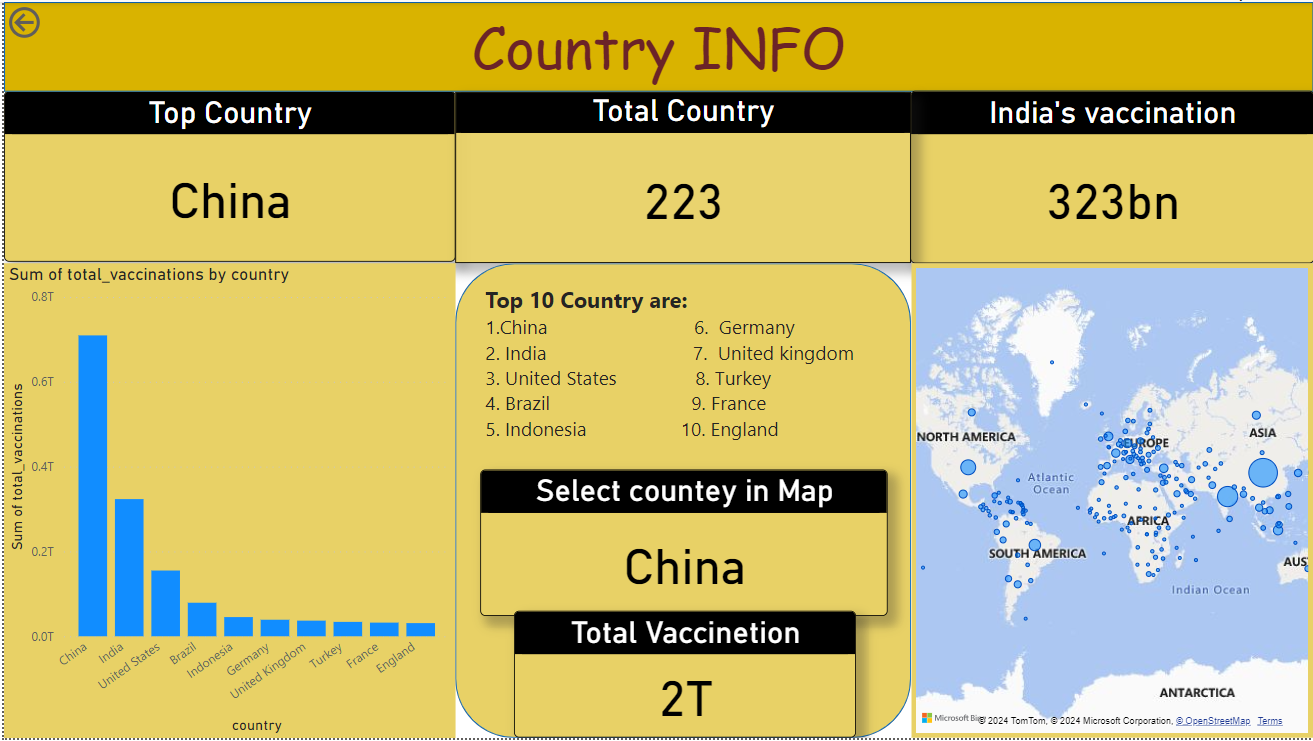

This screenshot's page, from the dashboard's own definition file:
{"tool":"powerbi","page":{"name":"Country INFO","canvas":[1280,720],"ordinal":2},"visuals":[{"type":"card","title":"Top  Country","fields":{"Values":["country_vaccinations.Country with Max Vaccination"]},"box":[0,87.1,441.4,167.1],"z":0},{"type":"shape","box":[0,0,1280.6,87.7],"z":1000},{"type":"card","title":"India''s vaccination","fields":{"Values":["country_vaccinations.india total vaccination"]},"box":[886.2,86.8,394.8,168.7],"z":2000},{"type":"actionButton","box":[0,0,100,40],"z":3000},{"type":"card","title":"Total Country","fields":{"Values":["Count(country_vaccinations.country)"]},"box":[441.5,88.1,445.3,167.3],"z":4000},{"type":"columnChart","fields":{"Category":["country_vaccinations.country"],"Y":["Sum(country_vaccinations.total_vaccinations)"]},"box":[0,255,441.5,464.8],"z":5000},{"type":"shape","box":[441.4,255.7,445.7,464.3],"z":6000},{"type":"map","fields":{"Category":["country_vaccinations.country"],"Size":["Sum(country_vaccinations.total_vaccinations)"]},"box":[887,256,393,464],"z":7000},{"type":"textbox","box":[465.7,271.4,398.6,185.7],"z":8000},{"type":"card","title":"Select countey in Map","fields":{"Values":["country_vaccinations.Country with Max Vaccination"]},"box":[465.7,457.1,398.6,142.9],"z":9000},{"type":"card","title":"Total Vaccinetion","fields":{"Values":["Sum(country_vaccinations.total_vaccinations)"]},"box":[498.6,595.7,334.3,124.3],"z":10000}]}

Visuals, with their boxes in screenshot pixels (x1, y1, x2, y2), scaled from the page's 1280x720 canvas onto the 1313x741 screenshot:
"Top  Country" card: {"x1": 0, "y1": 90, "x2": 453, "y2": 262}
shape: {"x1": 0, "y1": 0, "x2": 1312, "y2": 90}
"India''s vaccination" card: {"x1": 909, "y1": 89, "x2": 1312, "y2": 263}
actionButton: {"x1": 0, "y1": 0, "x2": 103, "y2": 41}
"Total Country" card: {"x1": 453, "y1": 91, "x2": 910, "y2": 263}
columnChart - country_vaccinations.country x Sum(country_vaccinations.total_vaccinations): {"x1": 0, "y1": 262, "x2": 453, "y2": 740}
shape: {"x1": 453, "y1": 263, "x2": 910, "y2": 740}
map - country_vaccinations.country x Sum(country_vaccinations.total_vaccinations): {"x1": 910, "y1": 263, "x2": 1312, "y2": 740}
textbox: {"x1": 478, "y1": 279, "x2": 887, "y2": 470}
"Select countey in Map" card: {"x1": 478, "y1": 470, "x2": 887, "y2": 617}
"Total Vaccinetion" card: {"x1": 511, "y1": 613, "x2": 854, "y2": 740}
